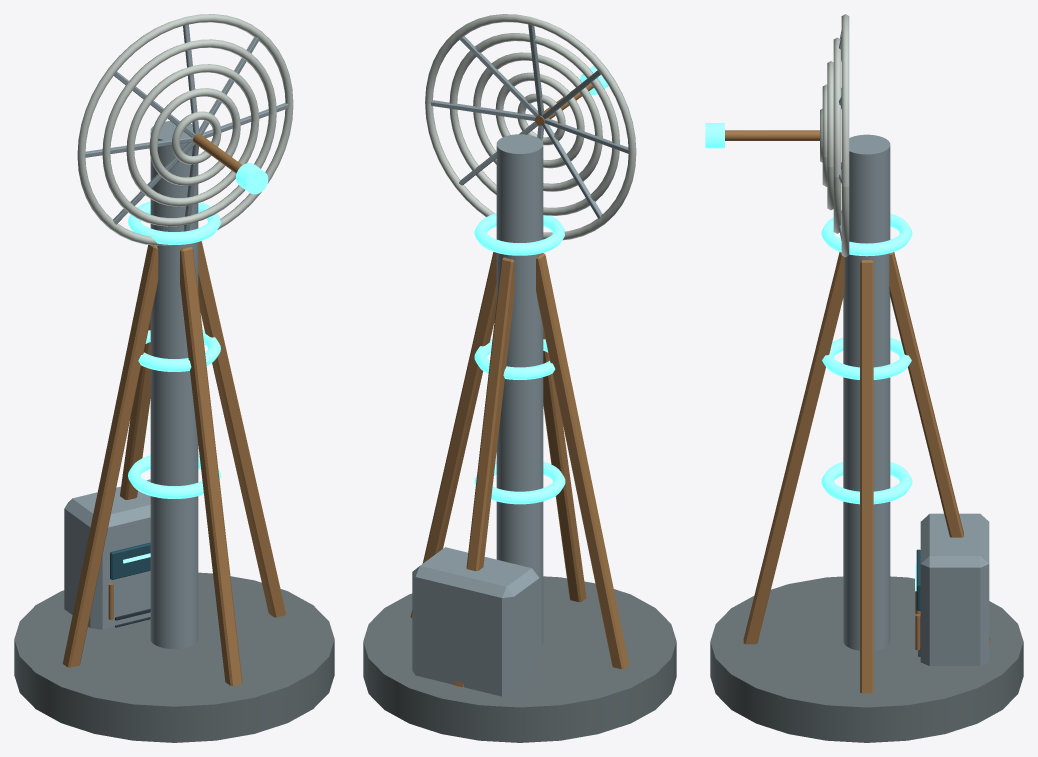
File: relay-mast.lod0.glb
3 renders of one model, left to right at view 1: azimuth 30°, elevation 25°; view 2: azimuth 150°, elevation 25°; view 3: azimuth 270°, elevation 25°, orthographic. The views are drawn at different scales.
Visible parts, largest first — view 1: structure, antenna; view 2: structure, antenna; view 3: structure, antenna.
Part boxes in pixels (left/top/right/bottom): structure: left=14, top=121, right=334, bottom=742; antenna: left=77, top=14, right=293, bottom=245; structure: left=363, top=134, right=676, bottom=742; antenna: left=425, top=14, right=636, bottom=240; structure: left=710, top=134, right=1023, bottom=742; antenna: left=705, top=14, right=849, bottom=257.
Bounding box in the file's own units: 3.2 × 7.34 × 3.25.
